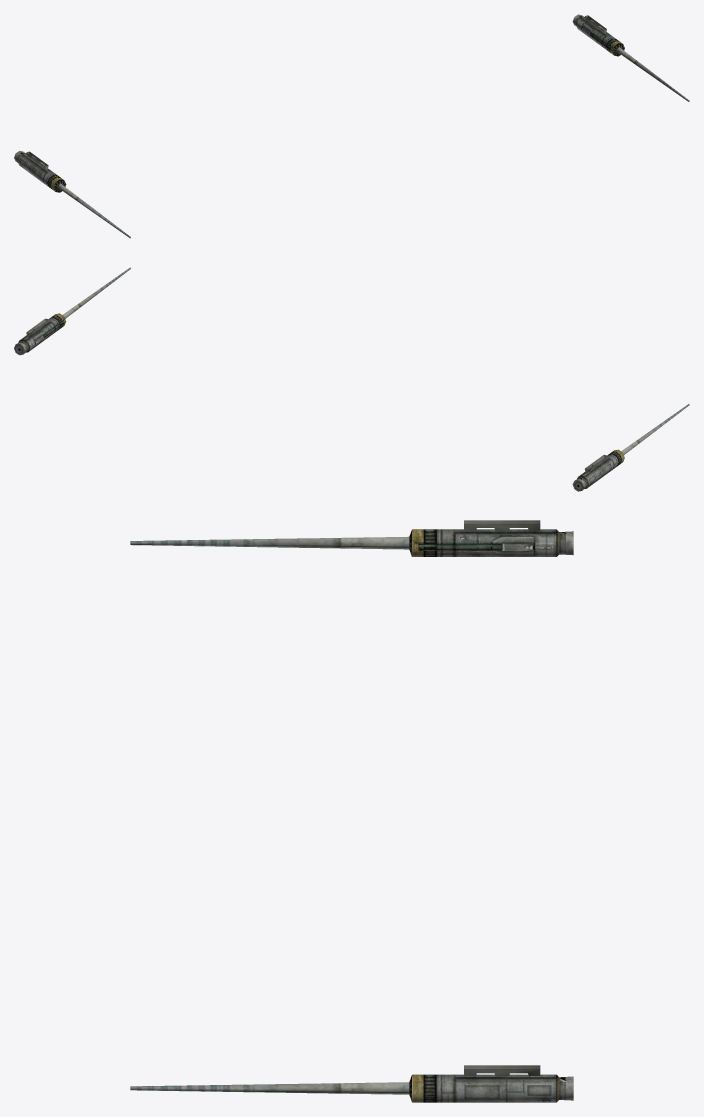
Rendered from hutt_fighter_heavy_weapon2_s01_l1.fbx.
3 renders of one model, top to bottom at view 1: azimuth 30°, elevation 25°; view 2: azimuth 150°, elevation 25°; view 3: azimuth 270°, elevation 25°, orthographic. The views are drawn at different scales.
Visible parts, largest first — view 1: mesh_node; view 2: mesh_node; view 3: mesh_node.
Part boxes in pixels (x1,y1,x2,y2): mesh_node: [14, 14, 689, 238]; mesh_node: [14, 267, 689, 491]; mesh_node: [130, 520, 573, 1102].
Bounding box in the file's own units: 26.56 × 0.773 × 8.92.
